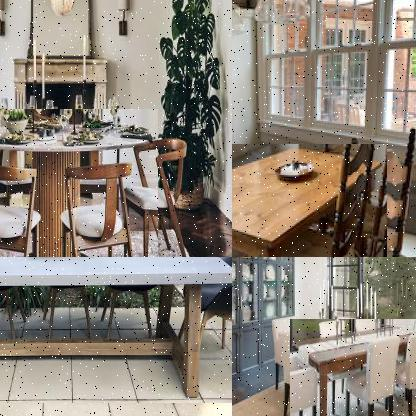table: (0, 257, 231, 405), (0, 108, 160, 256), (232, 144, 389, 256), (290, 319, 415, 415)
